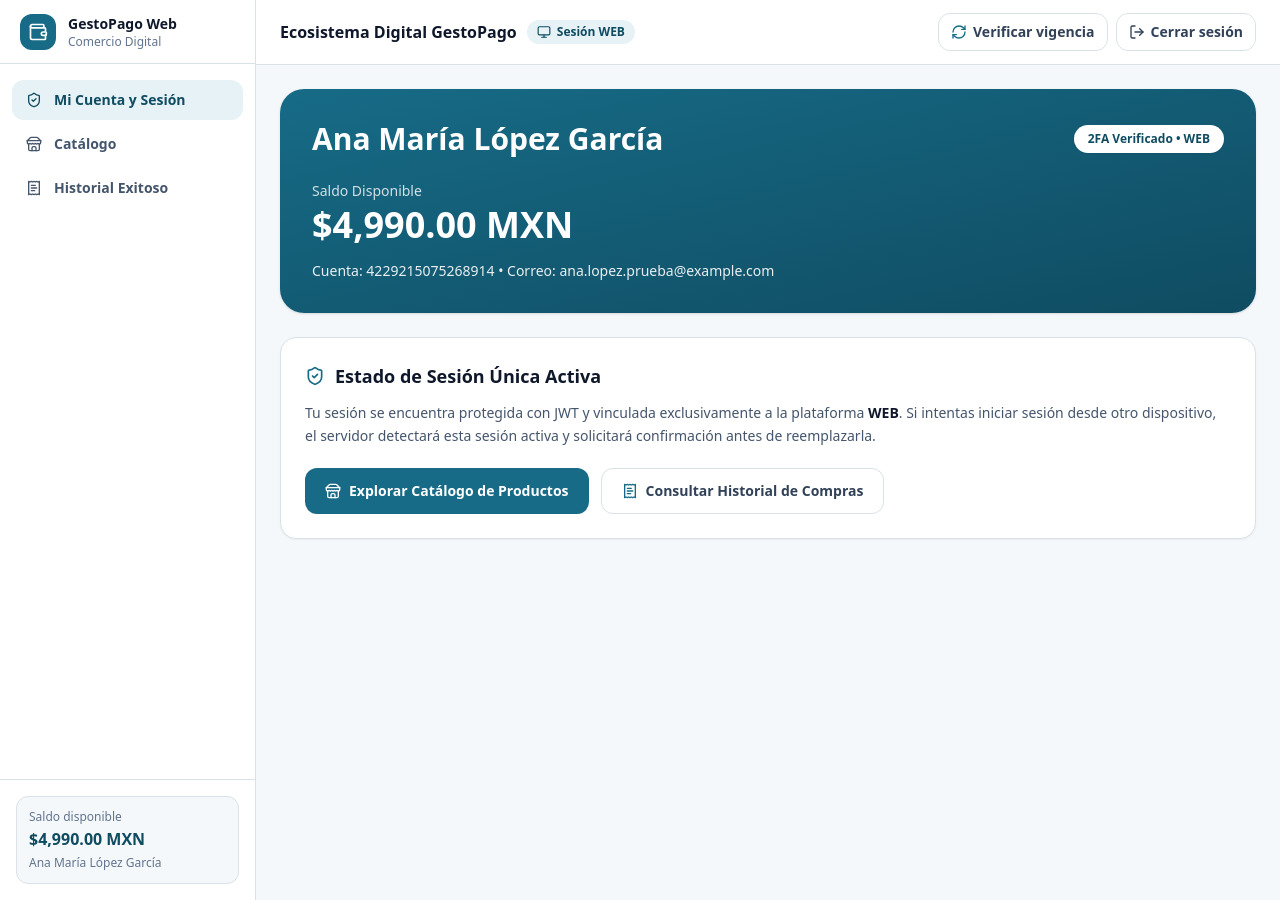
Fase 2: Flujo completo de Autenticación Web, 2FA y Sesión Única › expulsa al login con alerta cuando verificar vigencia recibe 401 por sesion reemplazada
The width and height of the screenshot is (1280, 900).
Click the button "Verificar vigencia" at (1023, 32), box 938,13 -> 1108,51
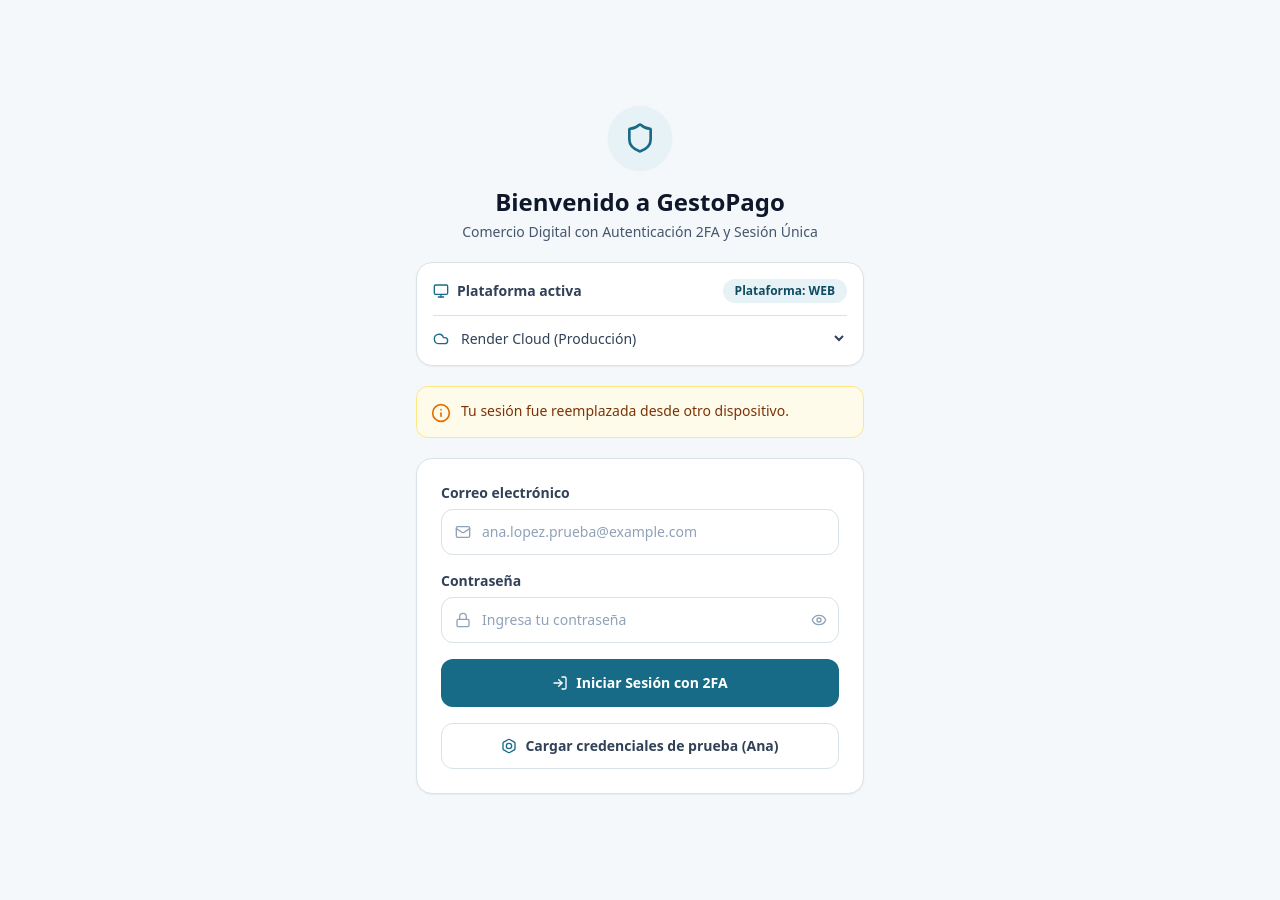
Expected: the heading "Bienvenido a GestoPago" is shown, 495,186 -> 785,218
Expected: the text "Tu sesión fue reemplazada desde otro dispositivo." is shown, 461,401 -> 789,421
